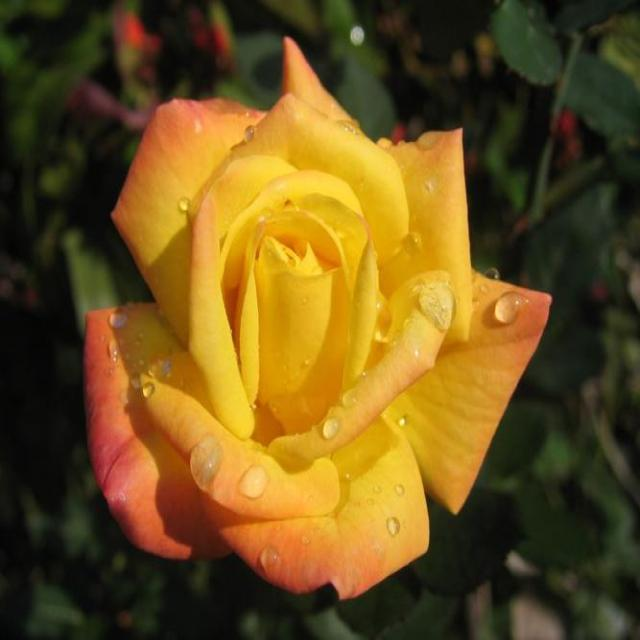rose: (83, 39, 544, 634)
